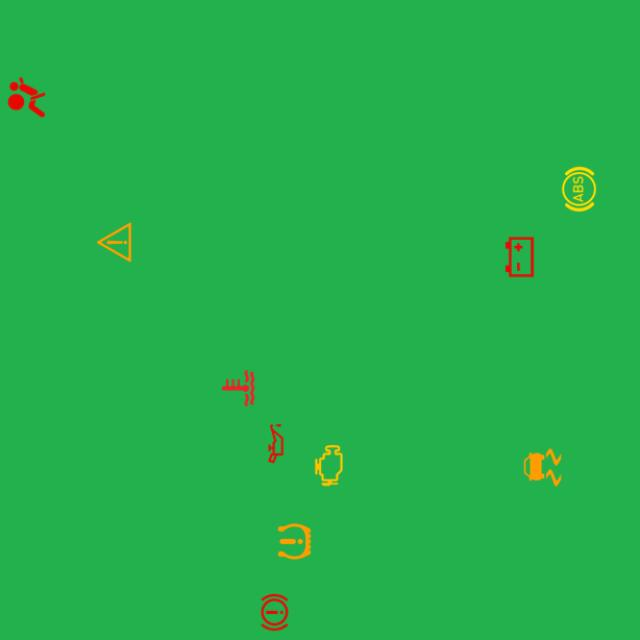Anti Lock Braking System: (554, 164, 604, 213)
Braking System Issue: (250, 588, 299, 637)
Charging System Issue: (495, 232, 544, 282)
Check Engine: (304, 441, 354, 490)
Electronic Stability Problem -ESP-: (518, 443, 567, 492)
Engine Overheating Warning Light: (214, 364, 262, 413)
Low Engine Oil Warning Light: (251, 419, 300, 468)
Low Tire Pressure Warning Light: (270, 517, 319, 566)
Master warning light: (90, 218, 138, 267)
SRS-Airbag: (2, 73, 51, 122)
